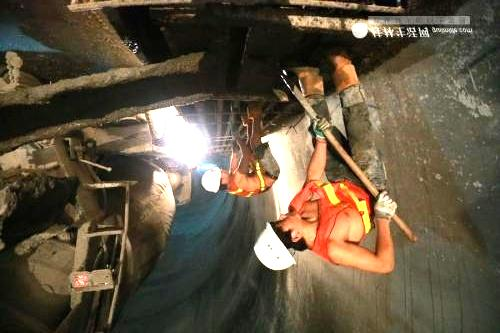helmet: (252, 211, 309, 271), (200, 166, 231, 194)
